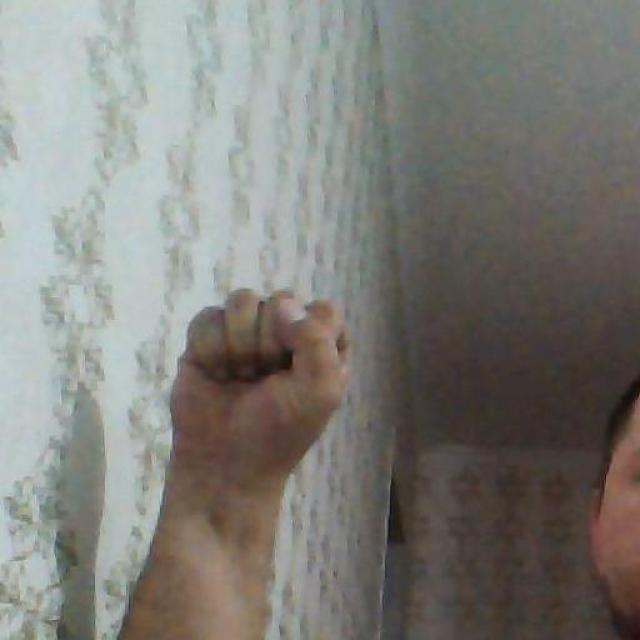hand: (116, 285, 352, 639), (166, 285, 352, 495)
